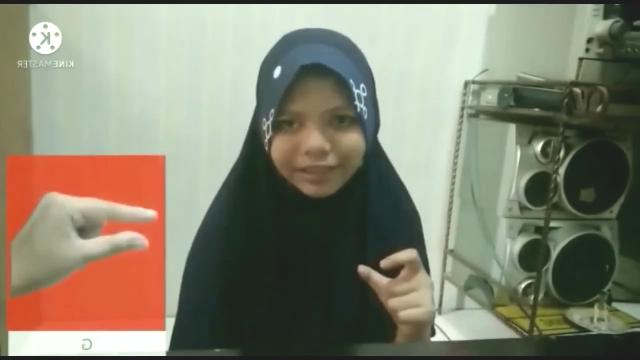G: (10, 190, 160, 298)
